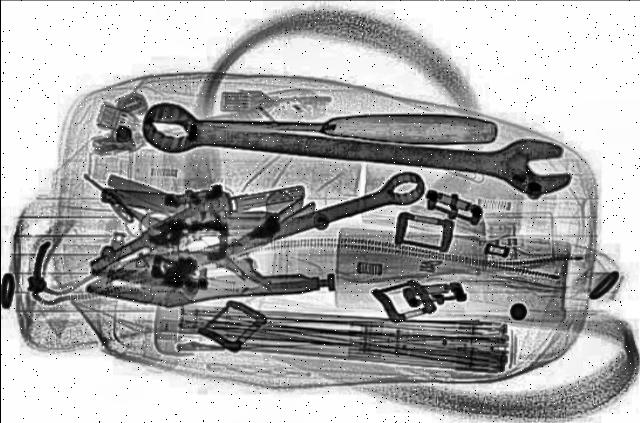Gun: (76, 182, 284, 296)
Knife: (141, 101, 495, 143)
Wrench: (130, 96, 580, 196)
